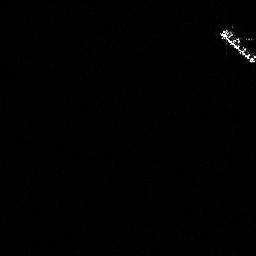ship: (219, 29, 256, 65)
